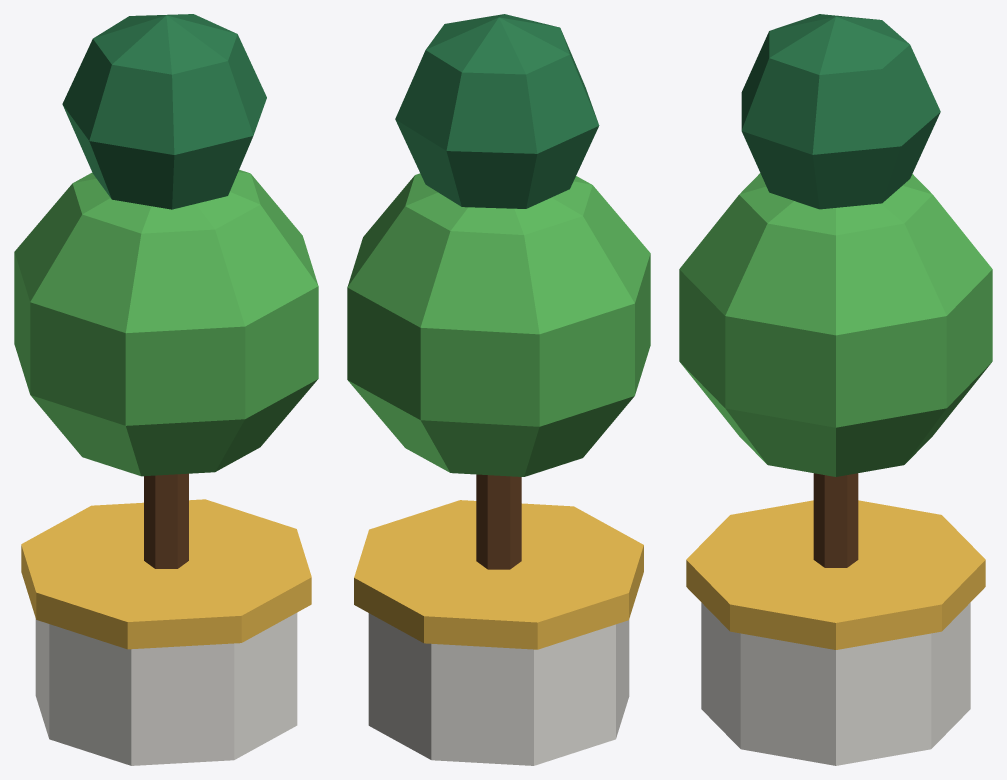
File: mdl_z4_topiario.fbx
The picture shows the model from 3 angles, left to right: view 1: azimuth 30°, elevation 25°; view 2: azimuth 150°, elevation 25°; view 3: azimuth 270°, elevation 25°; orthographic projection.
Parts seen in each view (by area): view 1: mdl_z4_topiario; view 2: mdl_z4_topiario; view 3: mdl_z4_topiario.
Part boxes in pixels (x1,y1,x2,y2): mdl_z4_topiario: [14, 14, 318, 765]; mdl_z4_topiario: [347, 14, 650, 765]; mdl_z4_topiario: [679, 14, 992, 765].
Bounding box in the file's own units: 209 × 510 × 209.
